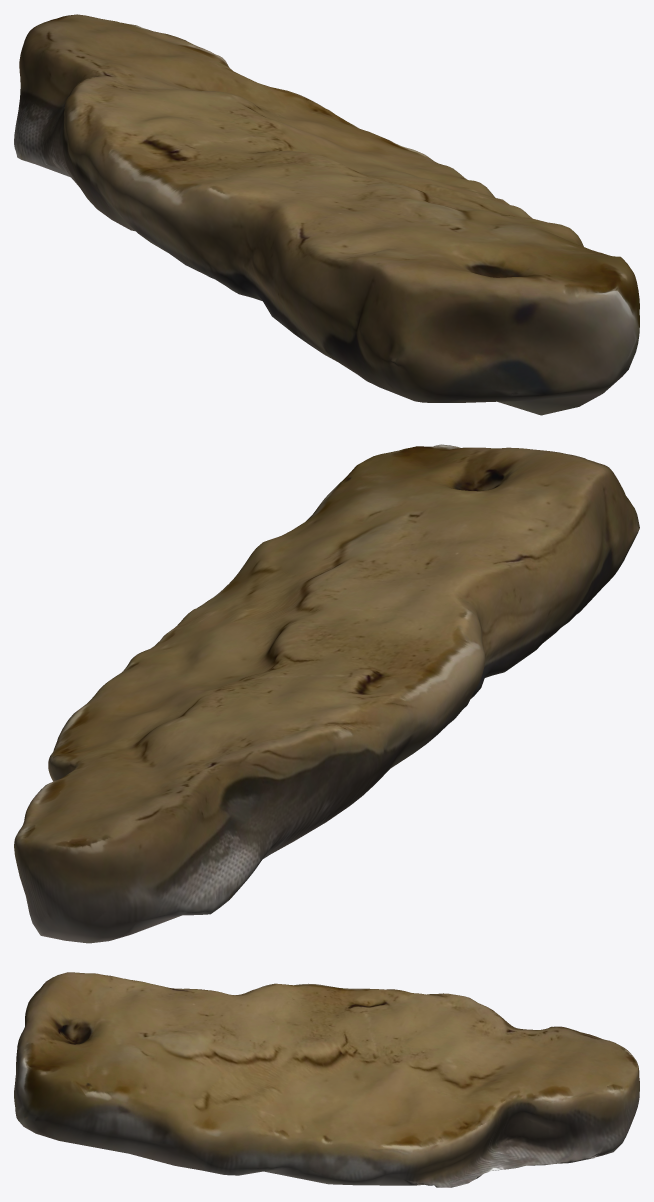
3 renders of one model, top to bottom at view 1: azimuth 30°, elevation 25°; view 2: azimuth 150°, elevation 25°; view 3: azimuth 270°, elevation 25°, orthographic. The views are drawn at different scales.
Size of the model in its own units: 0.2411 by 0.1375 by 0.5646.
Materials: 1 (1 with a texture image).
